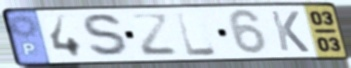4: (51, 13, 87, 60)
6: (227, 7, 272, 58)
K: (268, 10, 312, 54)
L: (174, 10, 220, 58)
S: (81, 12, 135, 60)
Z: (128, 12, 180, 57)
